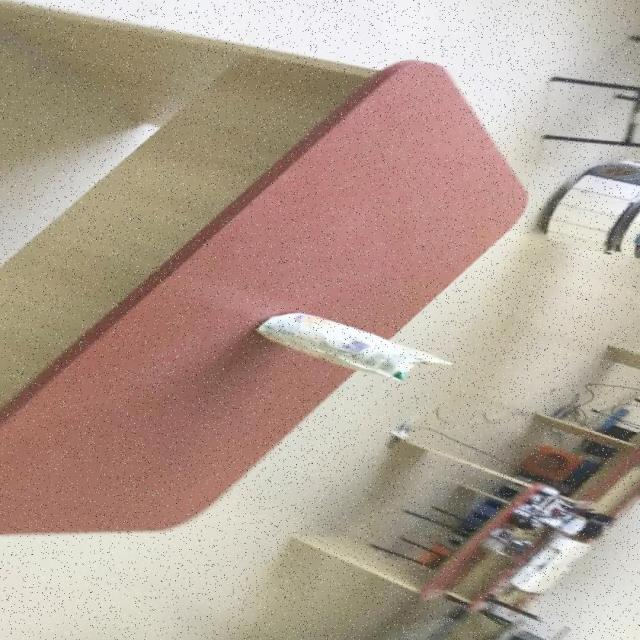CornFlakes: (254, 310, 452, 382)
